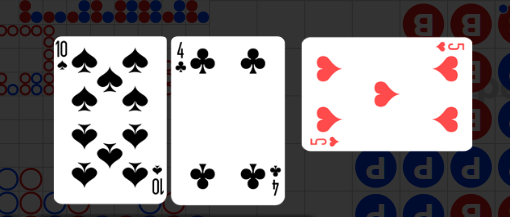10S: (56, 40, 70, 73)
4C: (267, 163, 282, 197)
5H: (434, 41, 465, 54)
